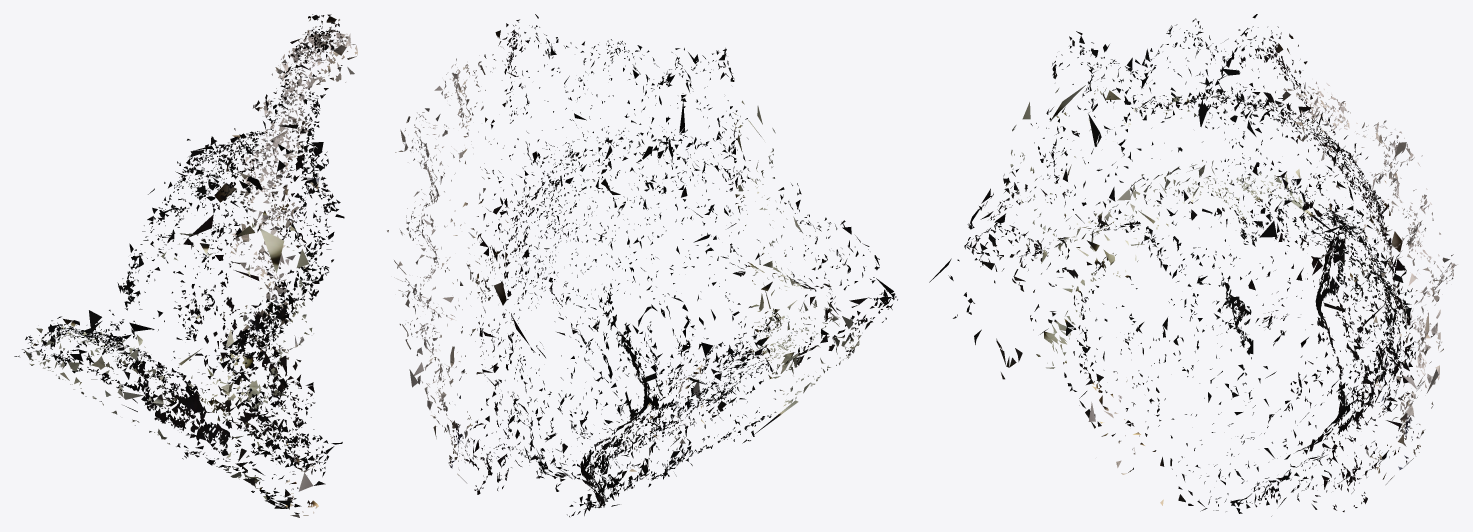
3 renders of one model, left to right at view 1: azimuth 30°, elevation 25°; view 2: azimuth 150°, elevation 25°; view 3: azimuth 270°, elevation 25°, orthographic. The views are drawn at different scales.
Parts seen in each view (by area): view 1: test10; view 2: test10; view 3: test10.
Boxes of the visible parts, x1,y1,x2,y2 form: test10: (14, 14, 357, 517); test10: (387, 14, 897, 516); test10: (929, 14, 1457, 516).
Bounding box in the file's own units: 1.18 × 1.46 × 1.35.
Materials: 1 (1 with a texture image).
